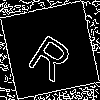R: (25, 25, 80, 84)
